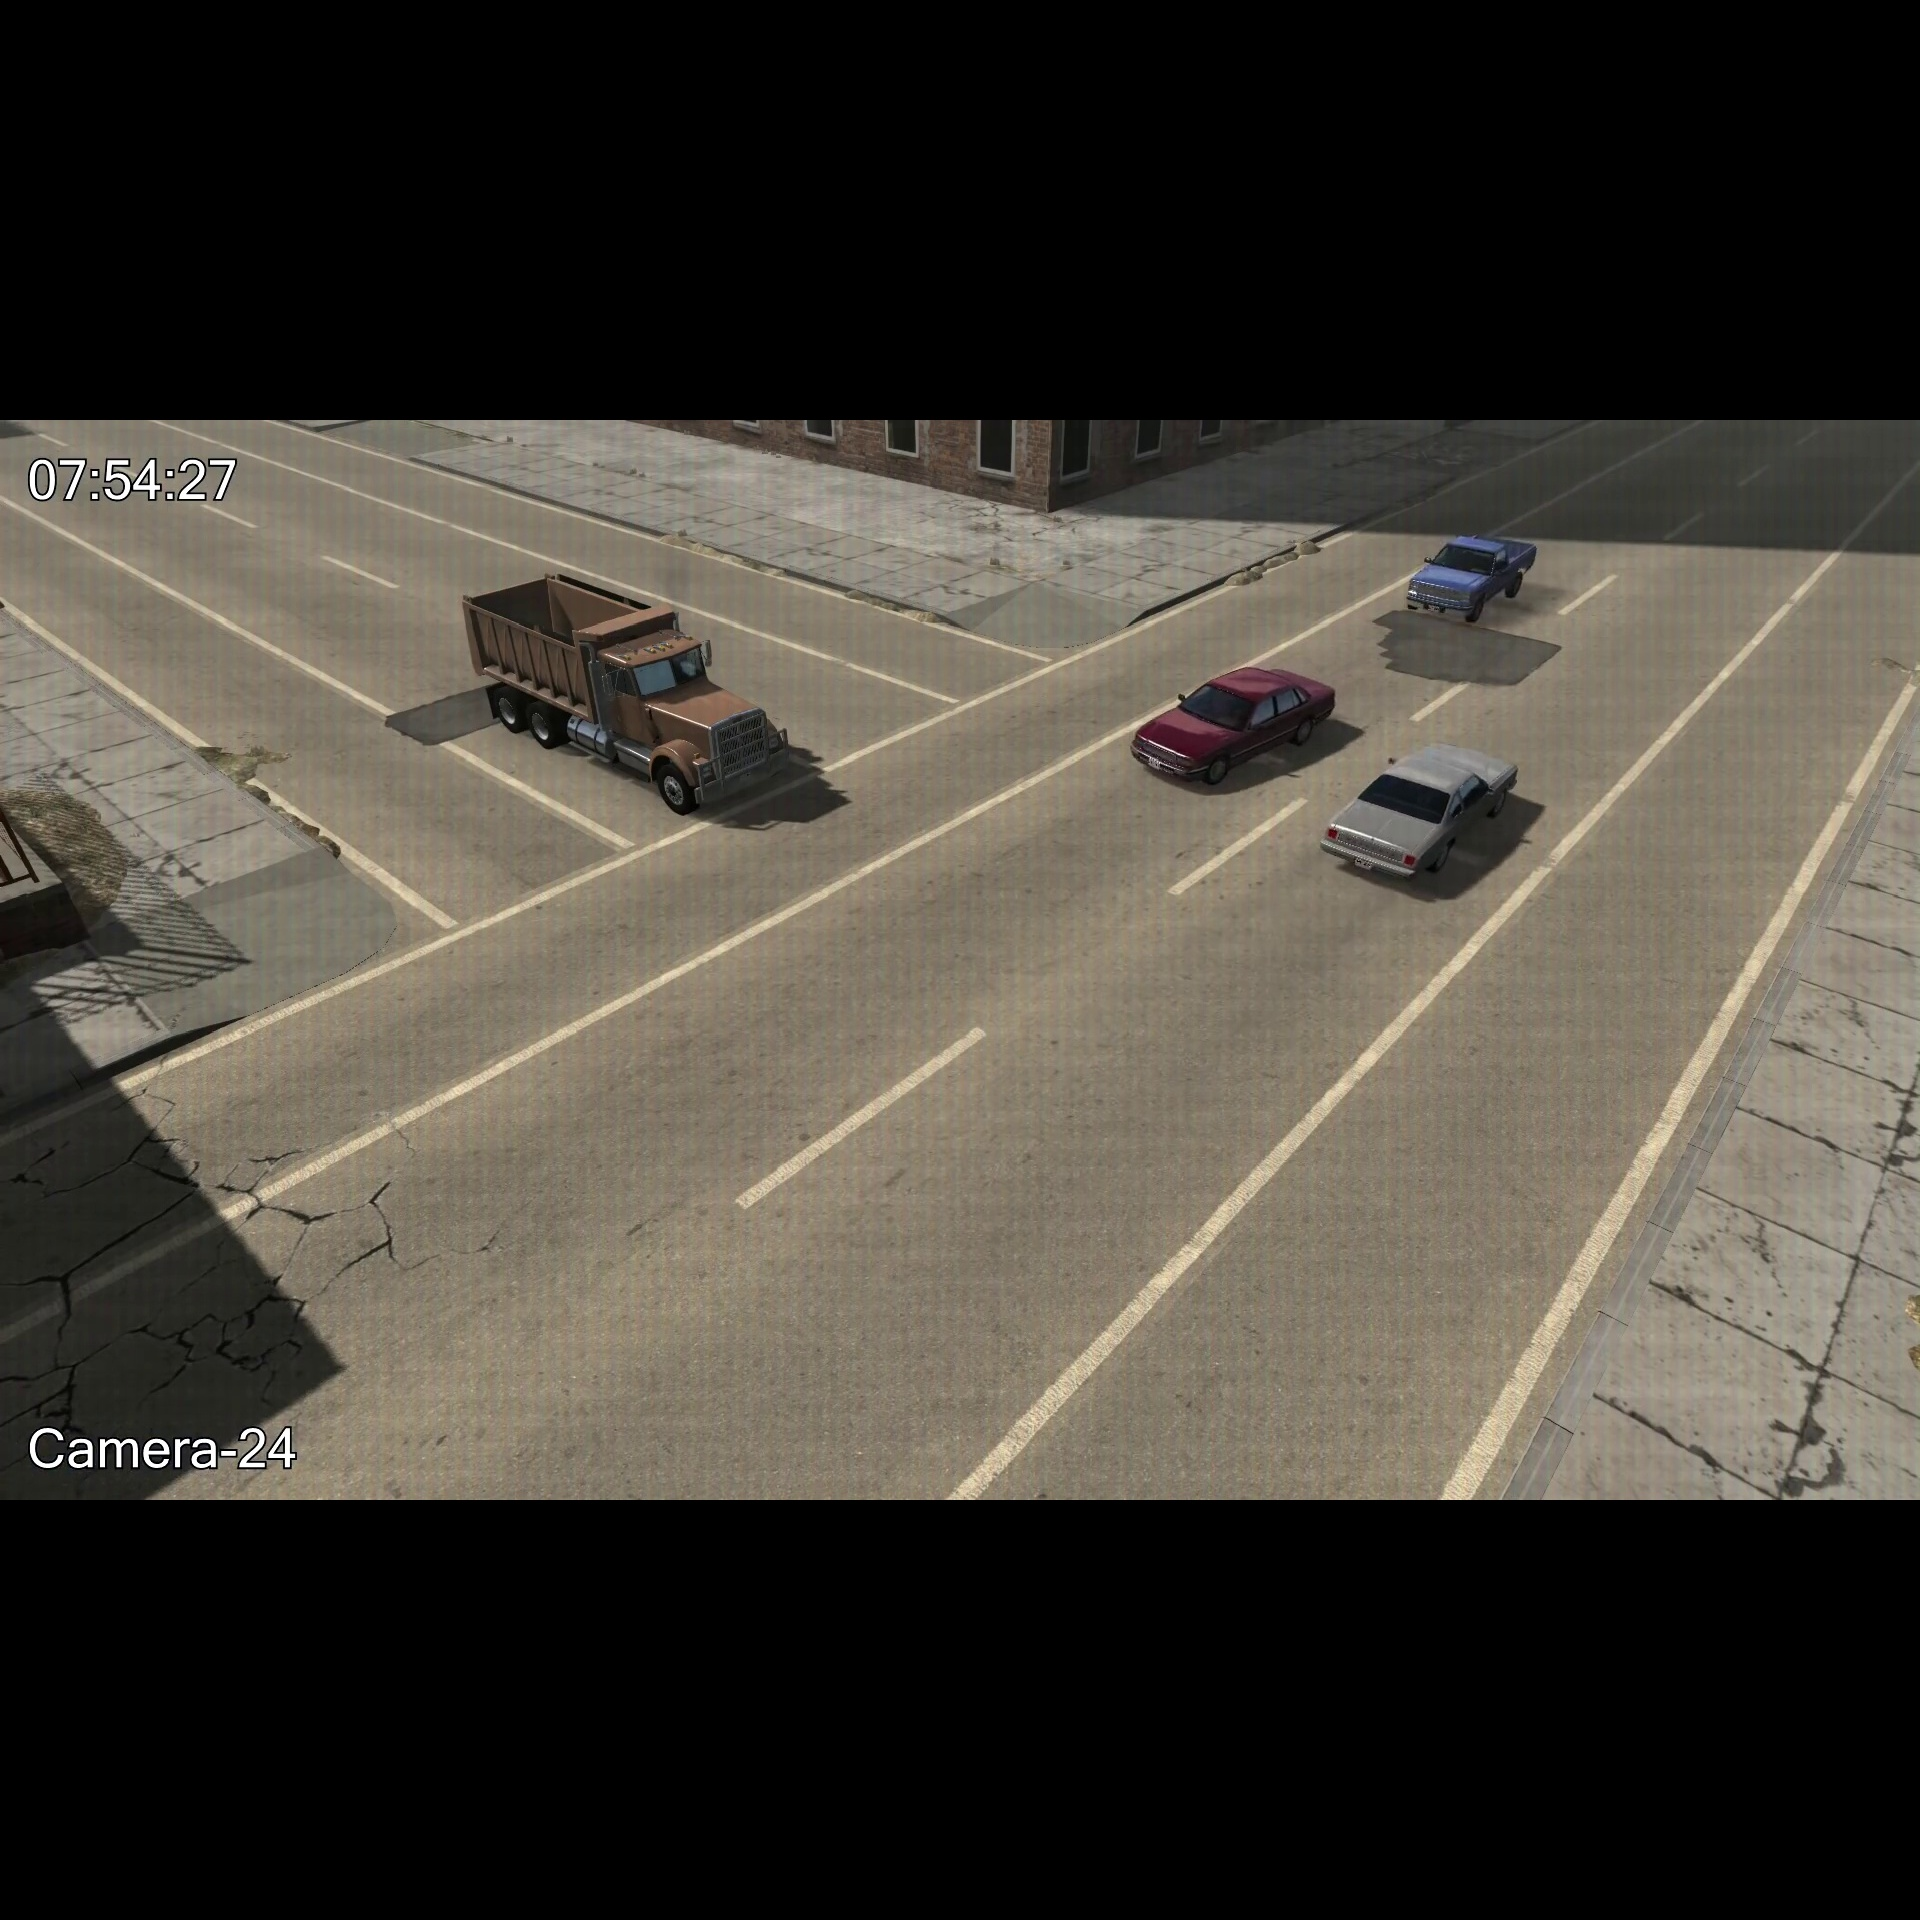vehicle: (457, 566, 807, 823), (1319, 731, 1524, 891), (1127, 659, 1343, 795), (1401, 526, 1544, 629)
